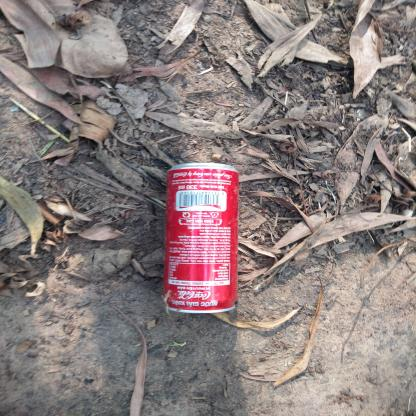trash: (155, 158, 245, 325)
